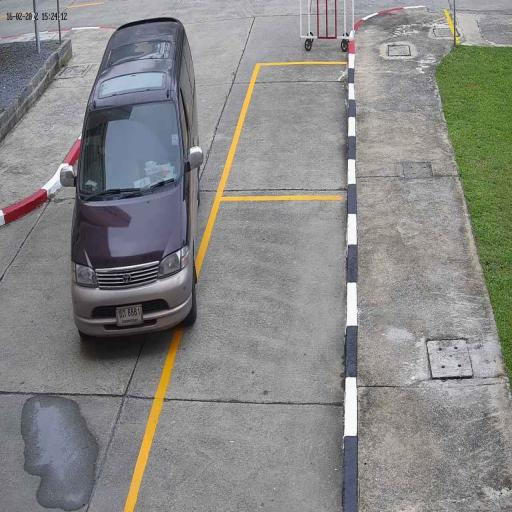car: (70, 16, 201, 341)
